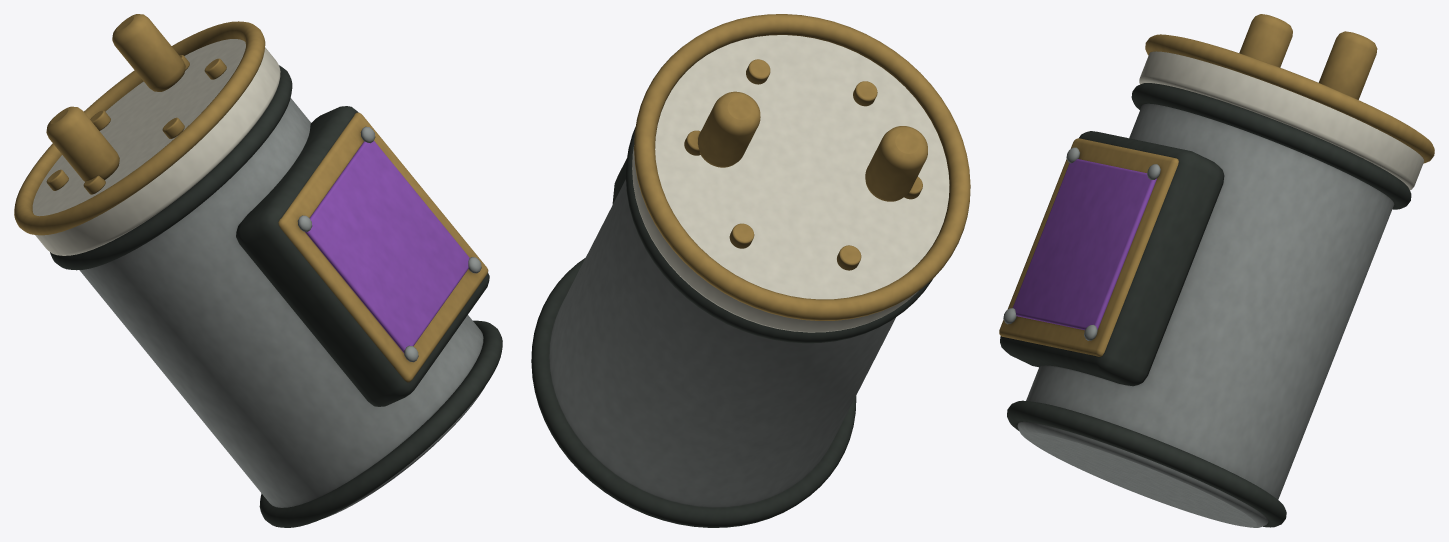
The picture shows the model from 3 angles, left to right: view 1: azimuth 30°, elevation 25°; view 2: azimuth 150°, elevation 25°; view 3: azimuth 270°, elevation 25°; orthographic projection. The views are drawn at different scales.
Parts seen in each view (by area): view 1: Closed sample vessel; view 2: Closed sample vessel; view 3: Closed sample vessel.
Boxes of the visible parts, x1=… form: Closed sample vessel: x1=14, y1=14, x2=502, y2=527; Closed sample vessel: x1=531, y1=14, x2=970, y2=527; Closed sample vessel: x1=999, y1=14, x2=1434, y2=527.
Bounding box in the file's own units: 0.9544 × 1.05 × 0.9001.
Materials: 1 (1 with a texture image).
